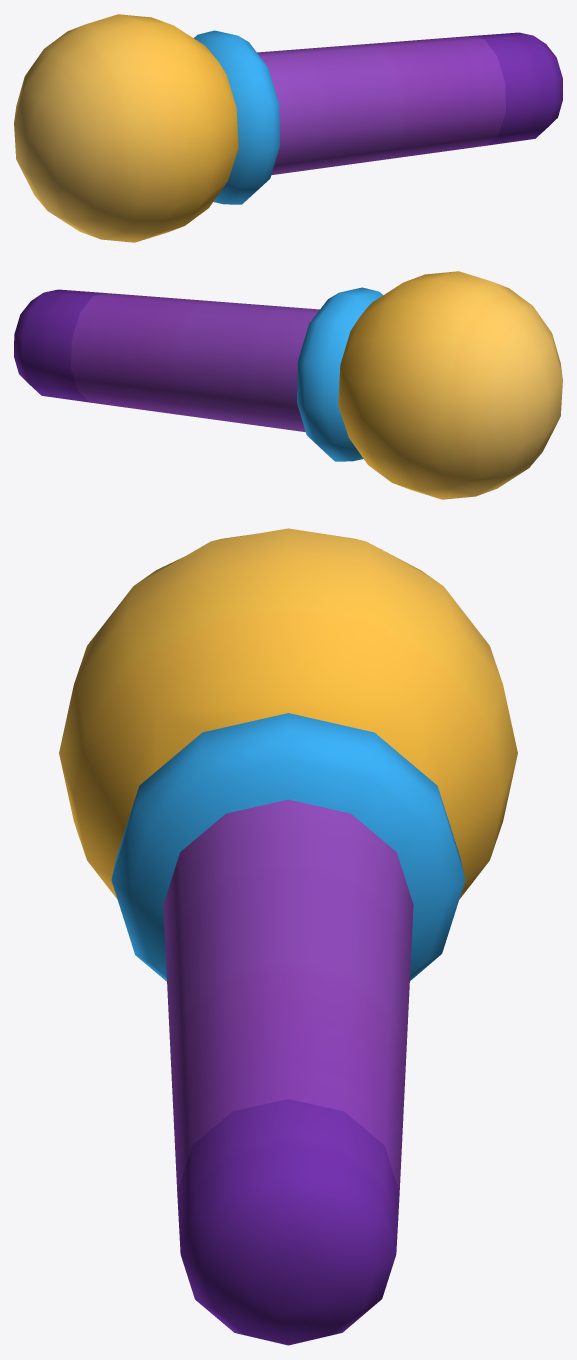
File: Audio_08.glb
3 views of the same model, one above another, from view 1: azimuth 30°, elevation 25°; view 2: azimuth 150°, elevation 25°; view 3: azimuth 270°, elevation 25° (orthographic). The views are drawn at different scales.
Parts seen in each view (by area): view 1: Audio_08; view 2: Audio_08; view 3: Audio_08.
Boxes of the visible parts, box(x1,y1,x2,y2) form: Audio_08: box(14, 14, 562, 242); Audio_08: box(14, 271, 562, 499); Audio_08: box(59, 528, 517, 1345).
Size of the model in its own units: 0.22 by 0.0828 by 0.0834.
1 material, 1 textured.
